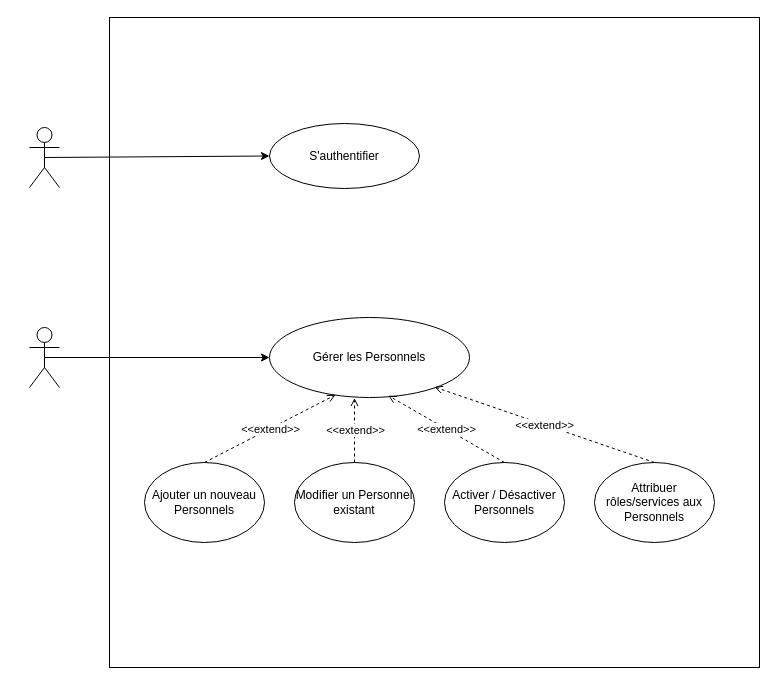
Image size: 777x685. Some labels were removed from this diagram. Each missing label, with the centre of its shape:
Admin: (x=44, y=357)
Personnel: (x=44, y=157)
